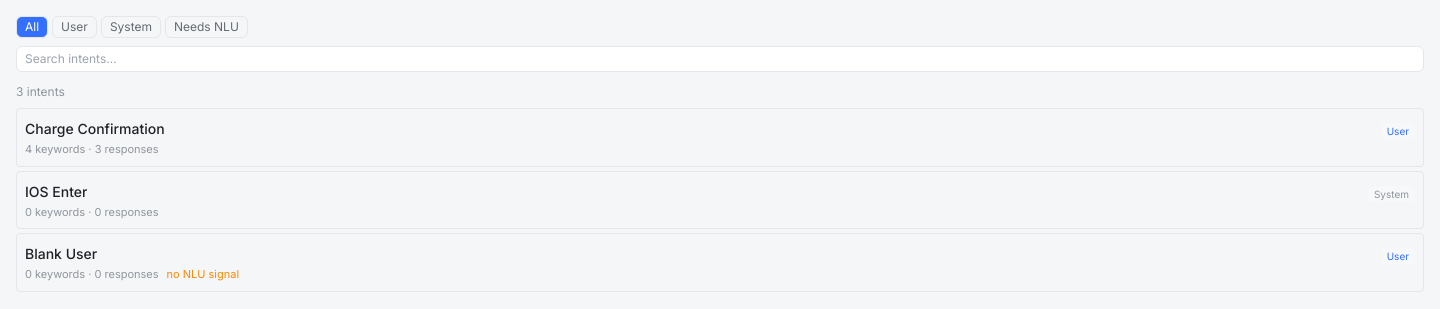
Scenario: IntentsPanel › searches by name
Type "charge" into the field with test id "intent-search" at (720, 59), box [16,46,1424,72]
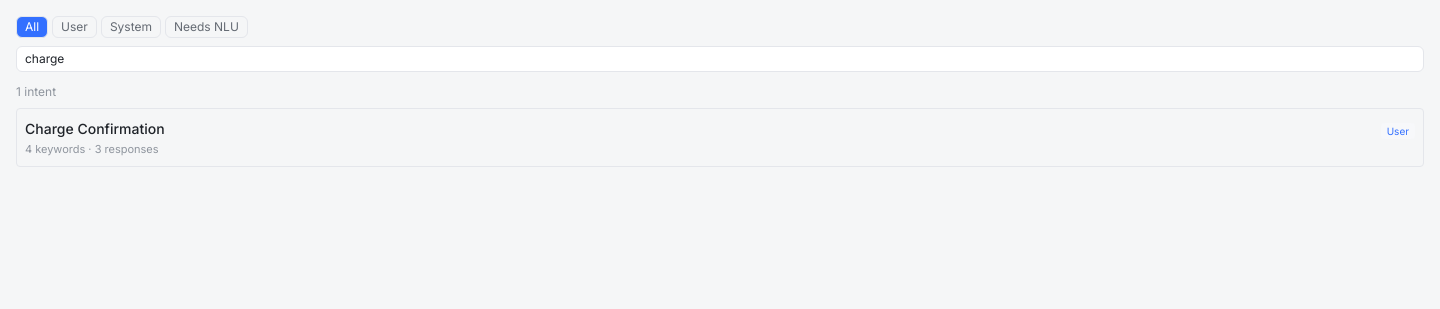
Now the number of list items with test id "intent-row" is 1, box [16,108,1424,166]
